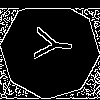Y: (25, 25, 73, 63)
